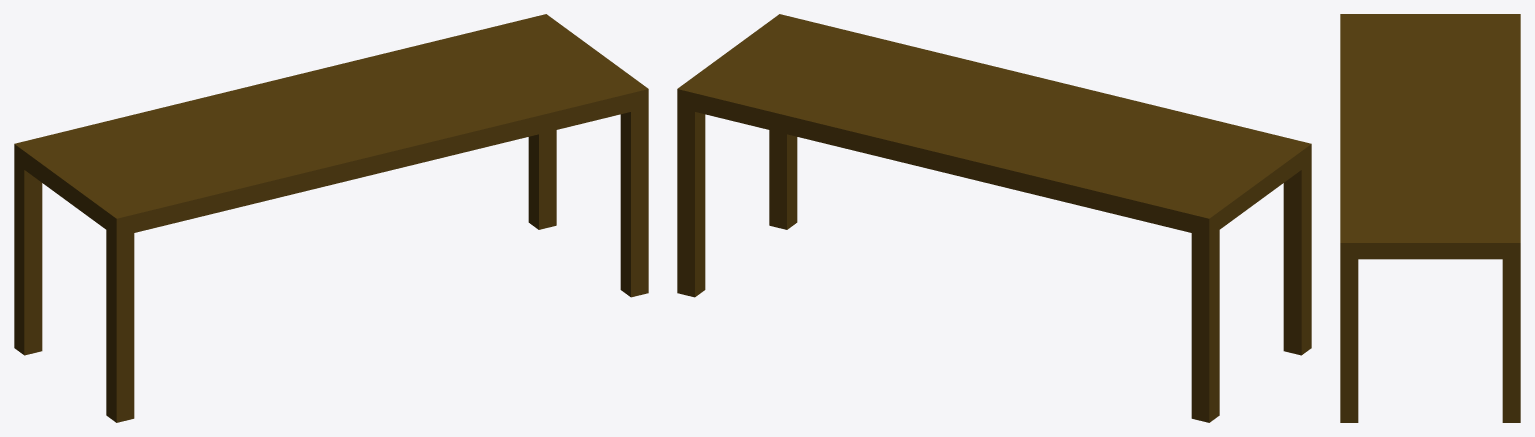
Rendered from table.dae.
The picture shows the model from 3 angles, left to right: view 1: azimuth 30°, elevation 25°; view 2: azimuth 150°, elevation 25°; view 3: azimuth 270°, elevation 25°; orthographic projection. The views are drawn at different scales.
Visible parts, largest first — view 1: node0; view 2: node0; view 3: node0.
Boxes of the visible parts, x1,y1,x2,y2 form: node0: [14, 14, 648, 422]; node0: [677, 14, 1311, 422]; node0: [1340, 14, 1520, 422].
Bounding box in the file's own units: 3 × 1 × 1.1.
